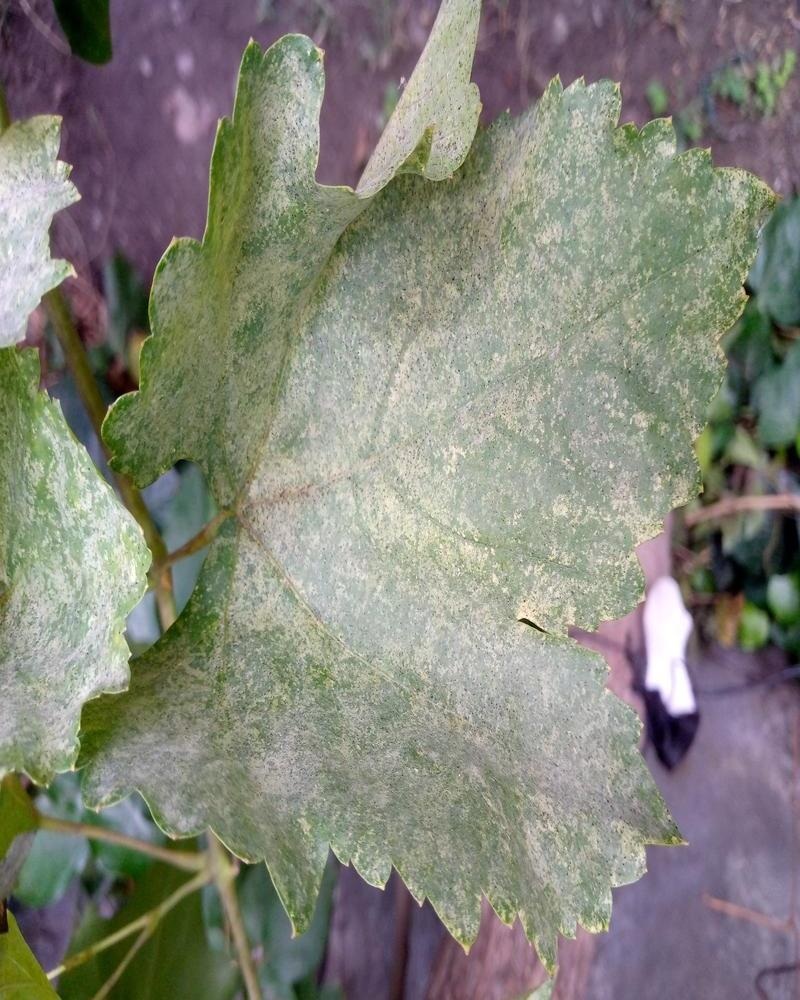Powdery-Mildew: (168, 232, 491, 532), (484, 114, 659, 295), (221, 586, 377, 767), (339, 509, 495, 638), (498, 792, 633, 916), (501, 685, 580, 764)
